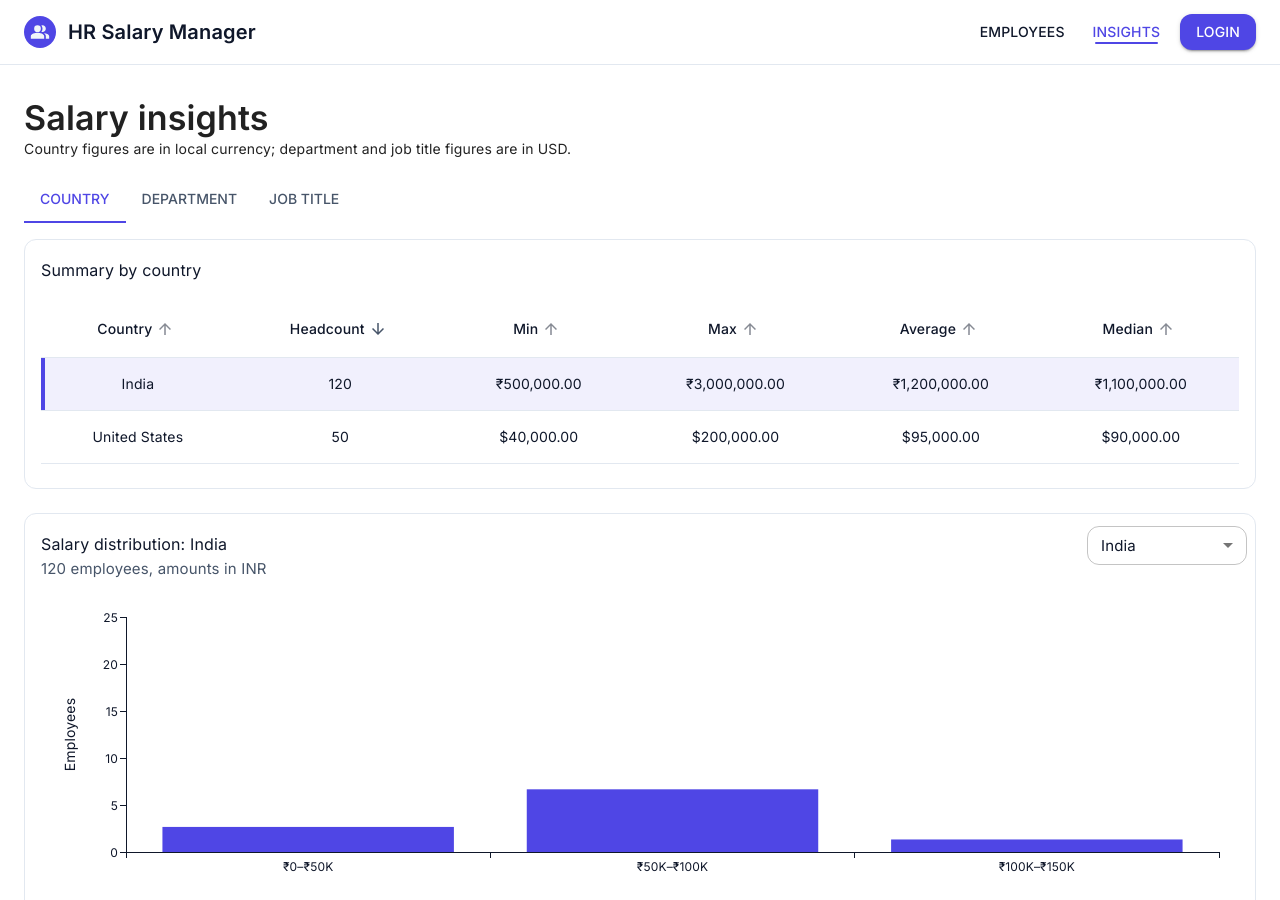
Scenario: App routing › navigates back to Employees via the nav link
Check: the tab "Country" is shown, box x1=24 y1=175 x2=126 y2=223
Click the link "Employees".
click(1022, 31)  # box x1=980 y1=23 x2=1065 y2=40
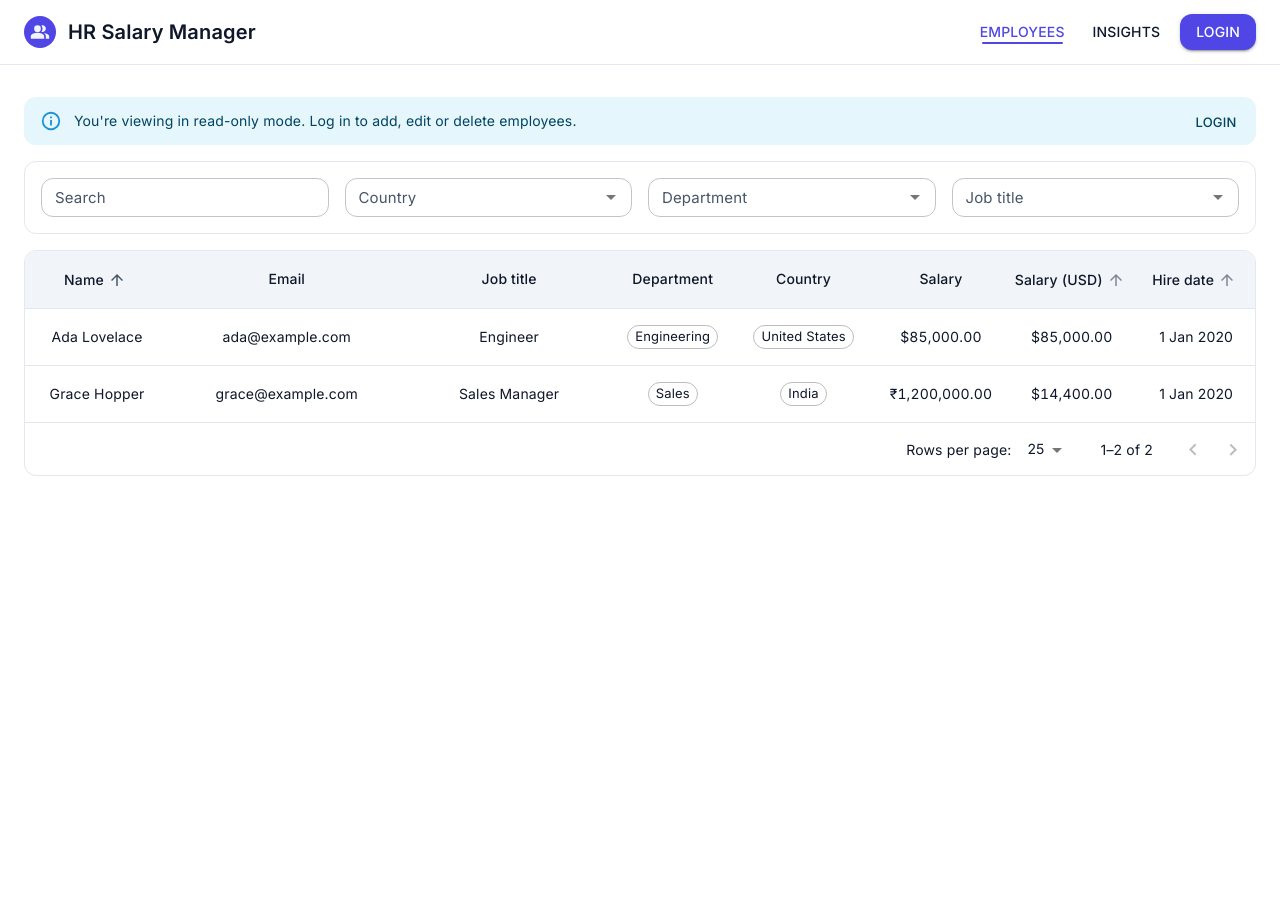
Check: the field labelled "Search" is shown, box x1=41 y1=178 x2=328 y2=217
